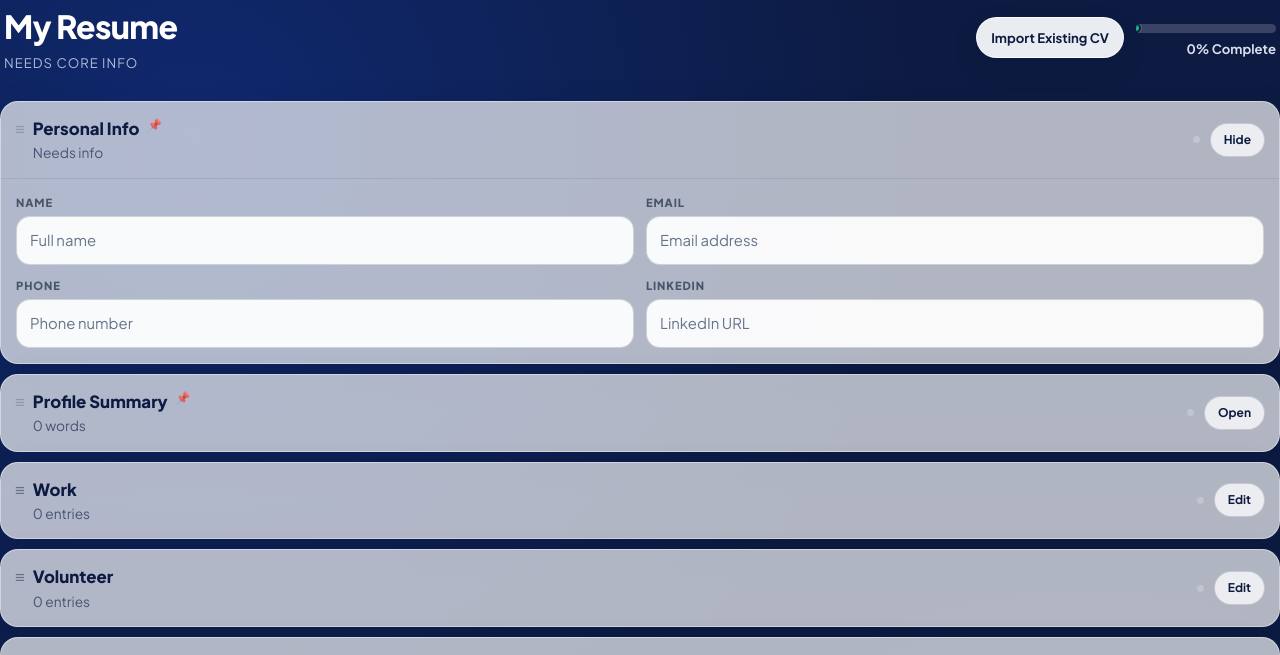
it: CVForm › shows live summary word counter
Click the button with class "card-action-btn" showing "Open" at (1234, 413), box [1204,396,1265,430]
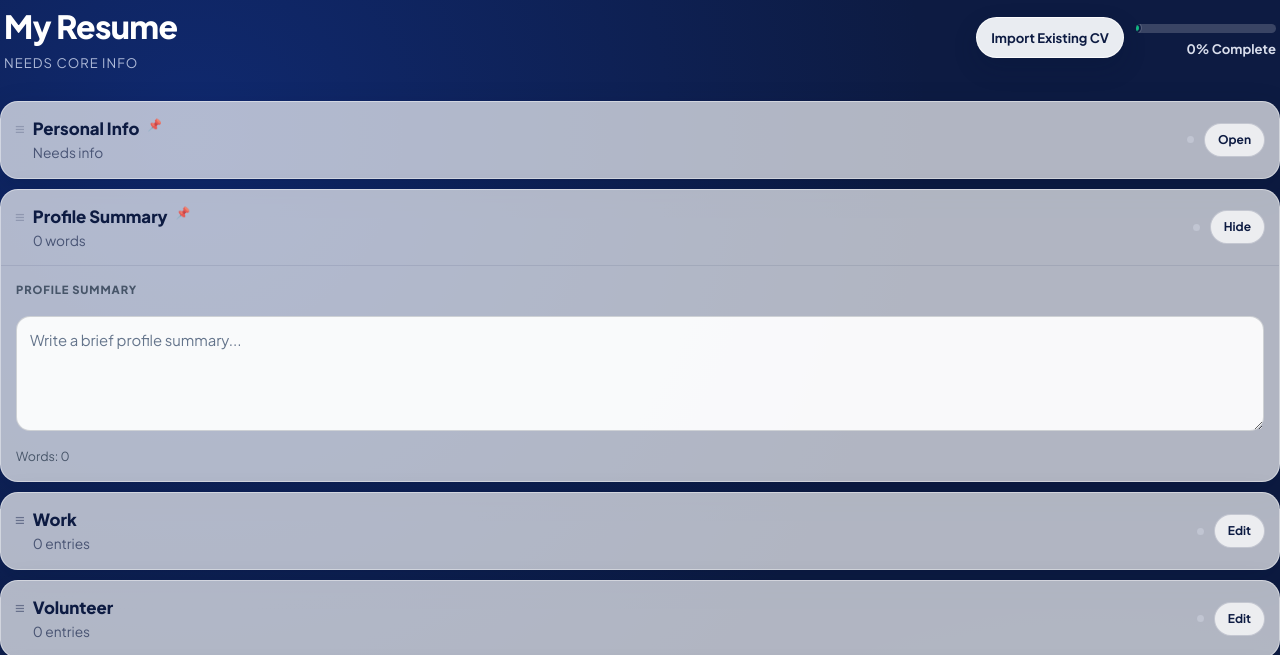
Check: the text box with id "cv-summary" is shown
Type "One two three four" into the text box with id "cv-summary" at (640, 374), box [16,316,1264,431]
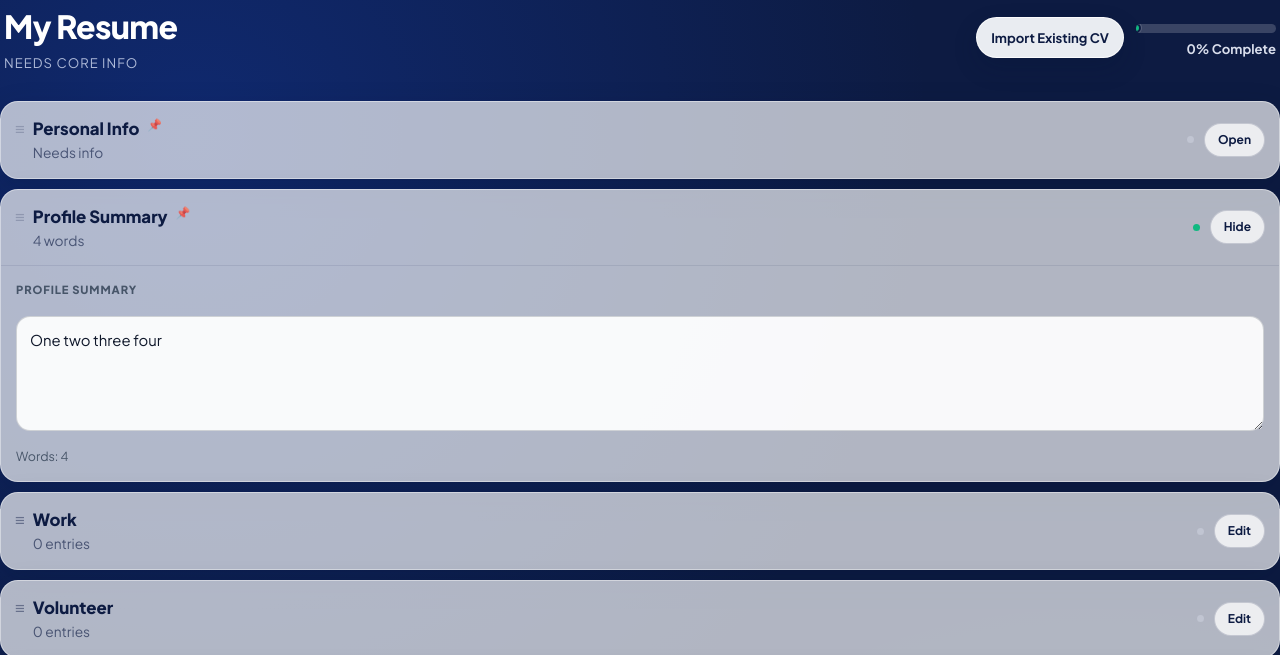
Check: the text "Words: 4" is shown, box [16,448,68,464]
